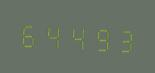four: (41, 18, 63, 52), (64, 19, 86, 53)
nine: (87, 20, 109, 54)
six: (18, 16, 40, 51)
three: (110, 21, 132, 55)
